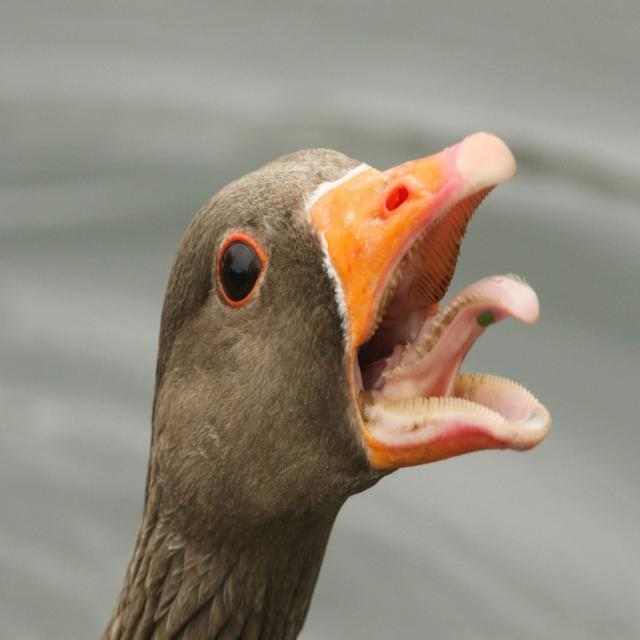Goose: (129, 134, 544, 640)
